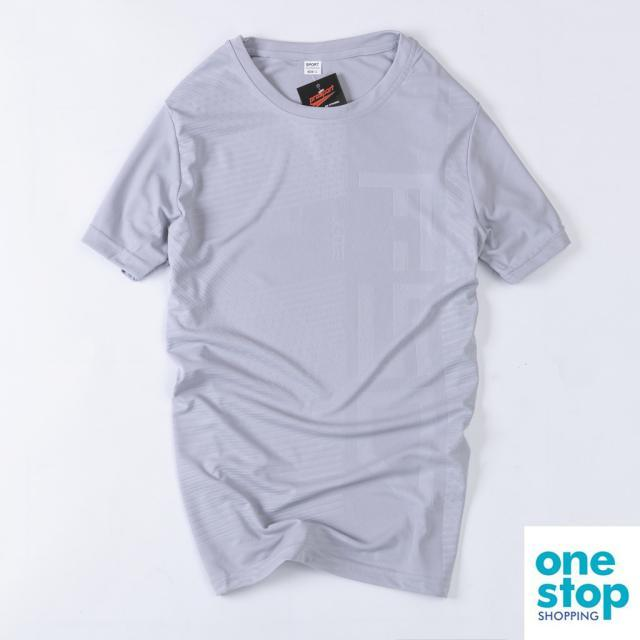Shirt: (79, 24, 576, 605)
